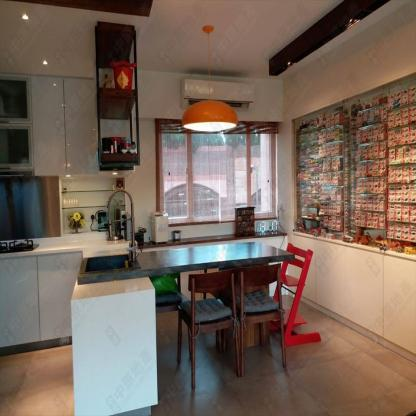Cupboard: (0, 73, 99, 176)
Faucet: (109, 190, 135, 250)
Oven: (0, 171, 33, 177)
Sink: (83, 253, 131, 273)
Stove: (0, 239, 41, 253)
